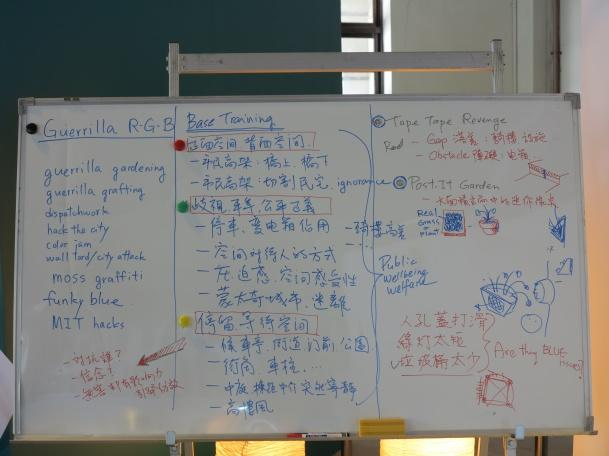Whiteboard: (9, 89, 596, 442)
